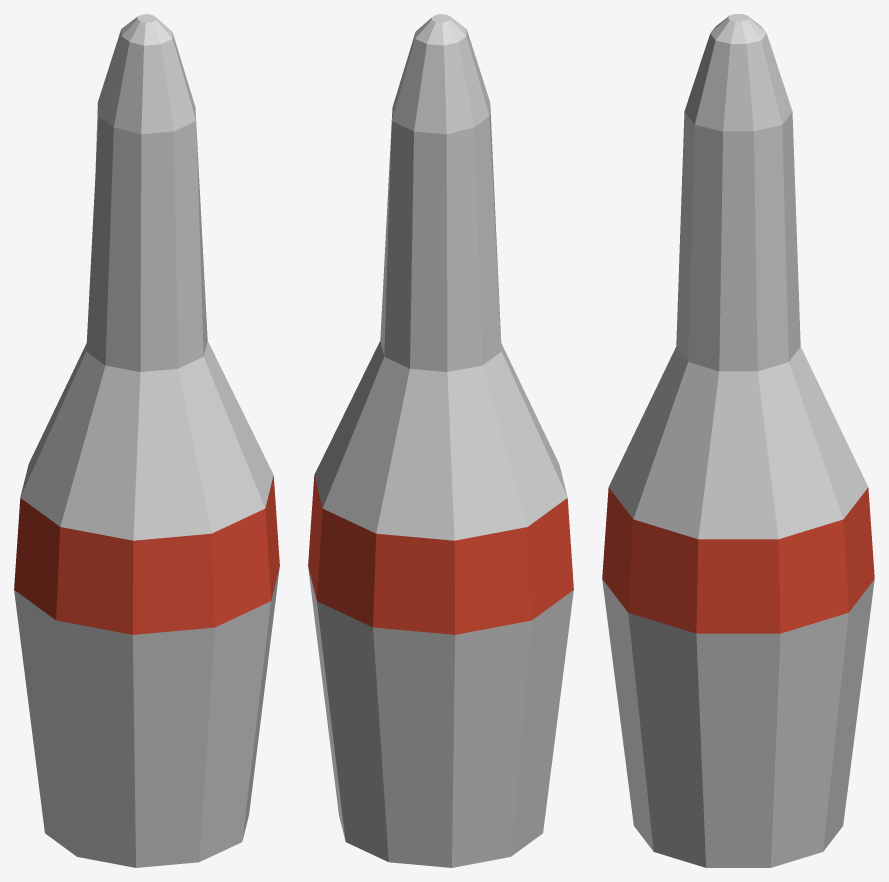
File: pin.fbx
The picture shows the model from 3 angles, left to right: view 1: azimuth 30°, elevation 25°; view 2: azimuth 150°, elevation 25°; view 3: azimuth 270°, elevation 25°; orthographic projection.
Parts seen in each view (by area): view 1: Cylinder; view 2: Cylinder; view 3: Cylinder.
Boxes of the visible parts, box(x1,y1,x2,y2) form: Cylinder: box(14, 14, 279, 867); Cylinder: box(308, 14, 573, 867); Cylinder: box(602, 14, 874, 867).
Bounding box in the file's own units: 53.94 × 186 × 56.72.
